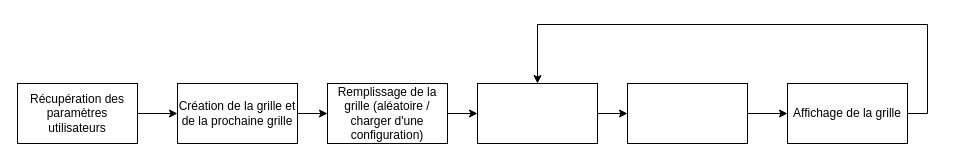
Image size: 953x161. Some labels were removed from this diagram. Each missing label, with the centre of its shape:
Estimation du temps de calcul: pixel 687 113
Processus de calculs des générations: pixel 537 113
